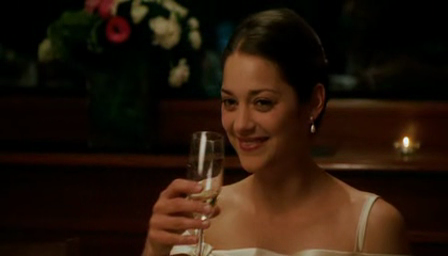cu: (1, 1, 448, 256)
face: (220, 67, 294, 172)
person: (144, 7, 407, 256)
